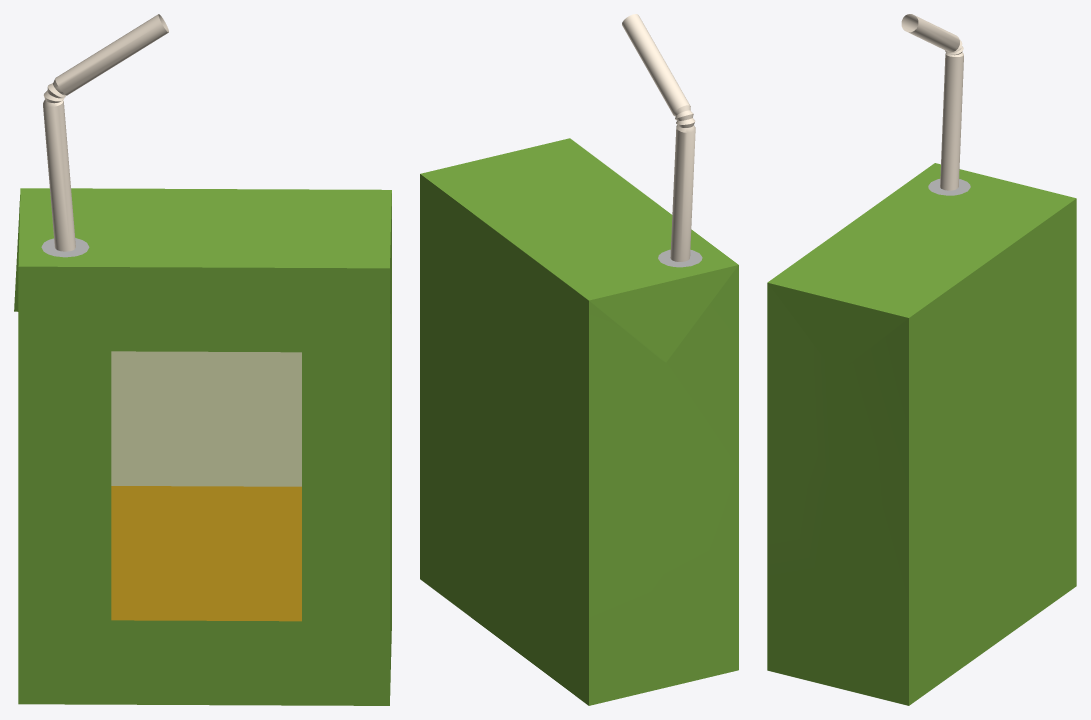
The model's file is beverage_box.gltf.
The picture shows the model from 3 angles, left to right: view 1: azimuth 30°, elevation 25°; view 2: azimuth 150°, elevation 25°; view 3: azimuth 270°, elevation 25°; orthographic projection. The views are drawn at different scales.
Parts seen in each view (by area): view 1: Cube.444; view 2: Cube.444; view 3: Cube.444.
Part boxes in pixels (x1,y1,x2,y2): Cube.444: [14, 14, 391, 705]; Cube.444: [420, 14, 738, 705]; Cube.444: [767, 14, 1076, 705].
Size of the model in its own units: 1.23 by 2.19 by 1.03.
1 material, 1 textured.
